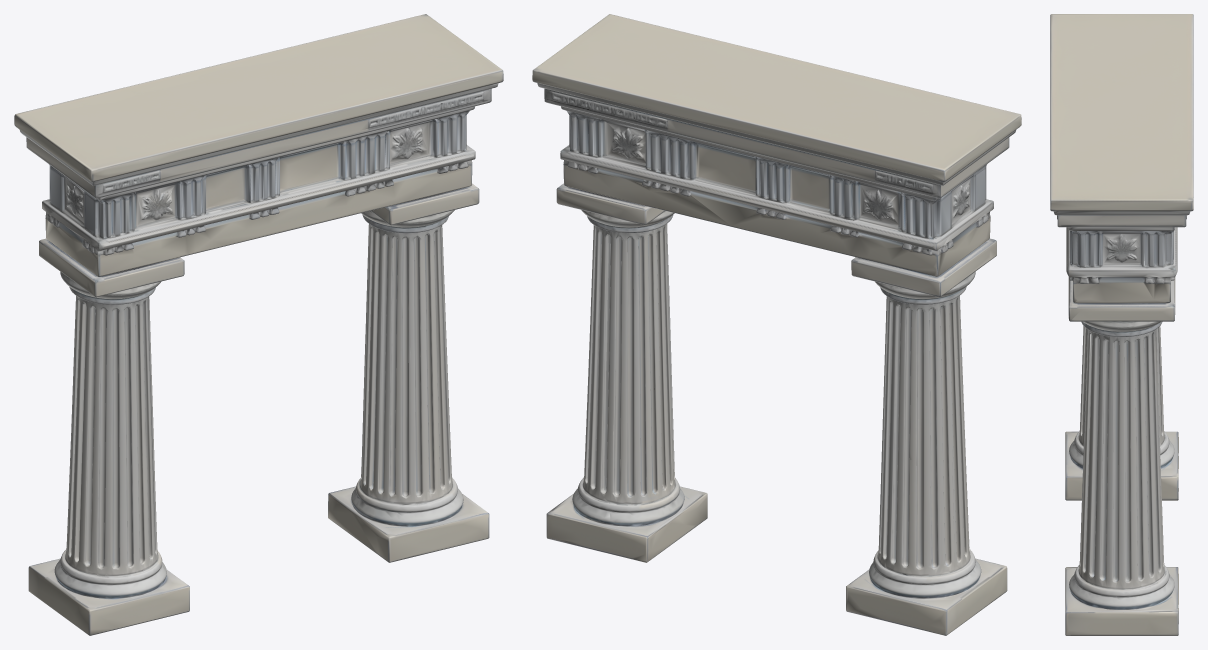
File: prop_gate.glb
3 renders of one model, left to right at view 1: azimuth 30°, elevation 25°; view 2: azimuth 150°, elevation 25°; view 3: azimuth 270°, elevation 25°, orthographic. The views are drawn at different scales.
Parts seen in each view (by area): view 1: material; view 2: material; view 3: material.
Boxes of the visible parts, <box> form: material: <box>14,14,503,635</box>; material: <box>532,14,1021,635</box>; material: <box>1050,14,1193,635</box>.
Bounding box in the file's own units: 0.7909 × 0.8676 × 0.2573.
Materials: 1 (1 with a texture image).
